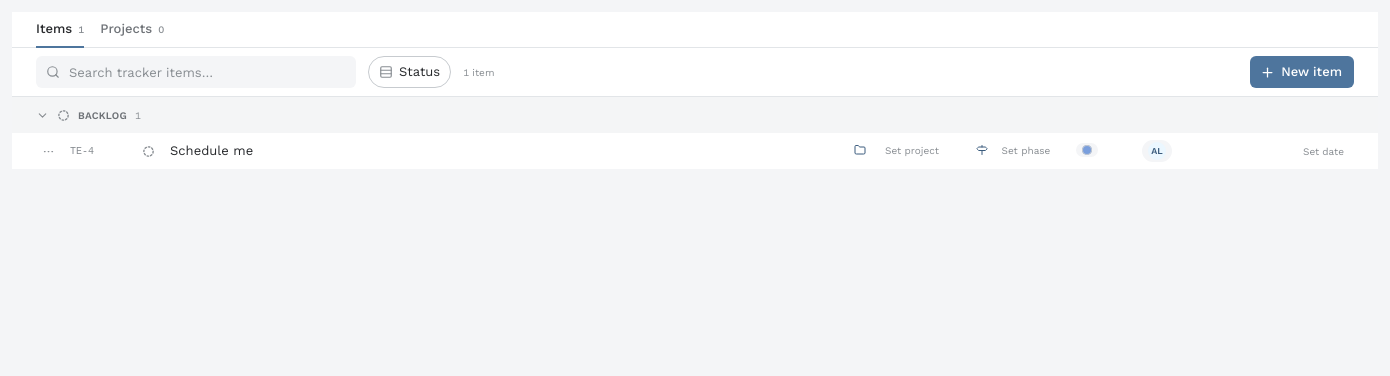
TrackerPage › commits an edited date draft before opening the status picker
Check: the button with test id "tracker-row-TE-4" is shown, box [12,133,1378,169]
Click the button with aria-label "Date: Set date" at (1324, 151), box [1303,144,1344,158]
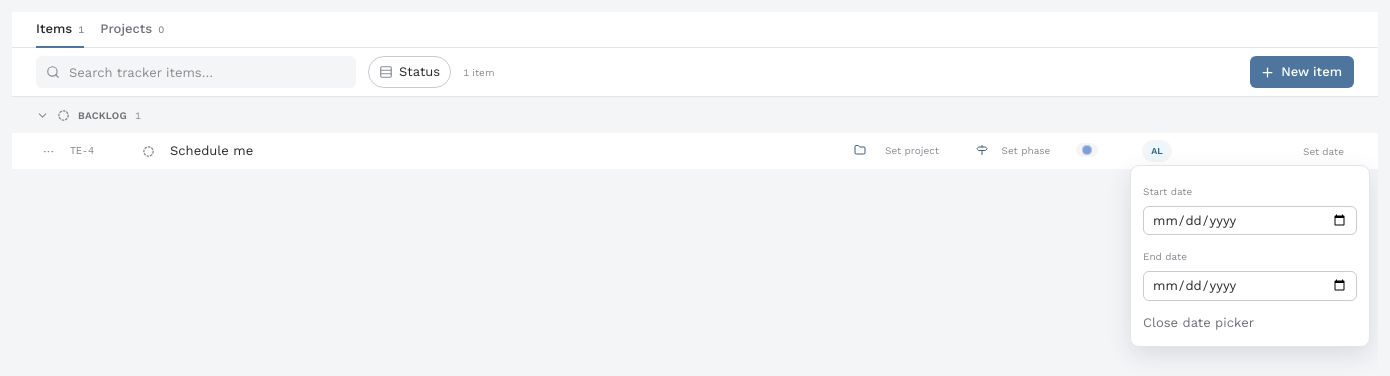
Type "2026-08-06" into the date field labelled "Start date" at (1250, 220), box [1143,206,1357,235]
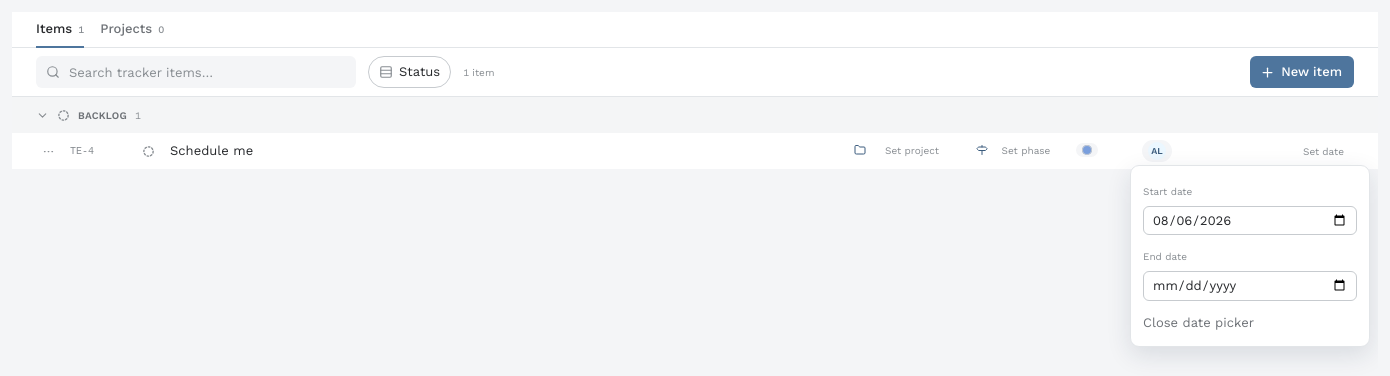
Type "2026-08-26" into the date field labelled "End date" at (1250, 286), box [1143,271,1357,300]
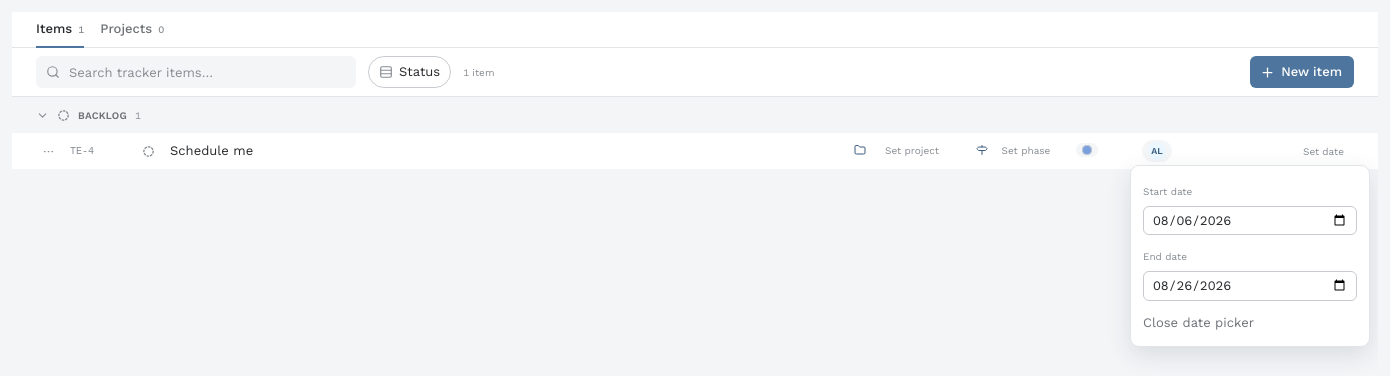
Click the button named "Backlog, TE-4" at (148, 151), box [136,139,160,163]
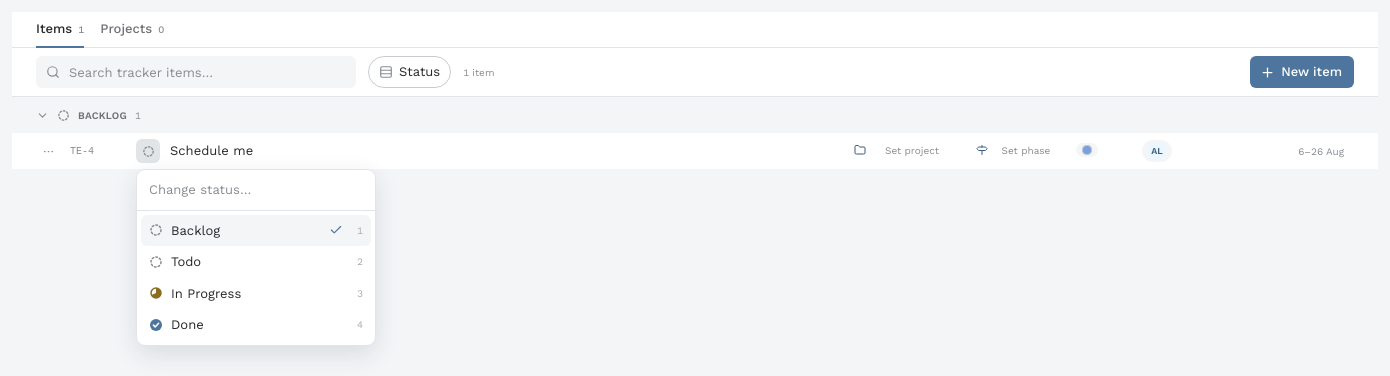
Check: the option "In Progress 3" is shown, box [141,278,371,309]
